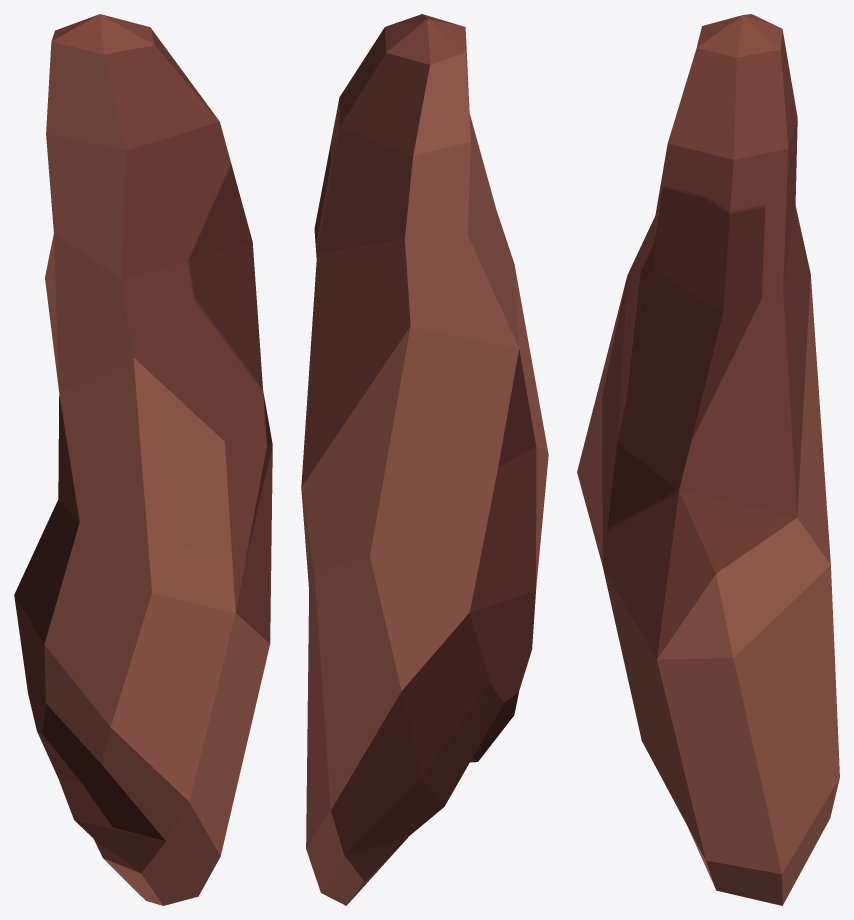
The model's file is SM_Item_Meat_01.fbx.
3 renders of one model, left to right at view 1: azimuth 30°, elevation 25°; view 2: azimuth 150°, elevation 25°; view 3: azimuth 270°, elevation 25°, orthographic. The views are drawn at different scales.
Parts seen in each view (by area): view 1: SM_Item_Meat_01; view 2: SM_Item_Meat_01; view 3: SM_Item_Meat_01.
Part boxes in pixels (x1,y1,x2,y2): SM_Item_Meat_01: (14, 14, 272, 905); SM_Item_Meat_01: (301, 14, 548, 905); SM_Item_Meat_01: (577, 14, 839, 905).
Size of the model in its own units: 18 by 70.86 by 19.66.
